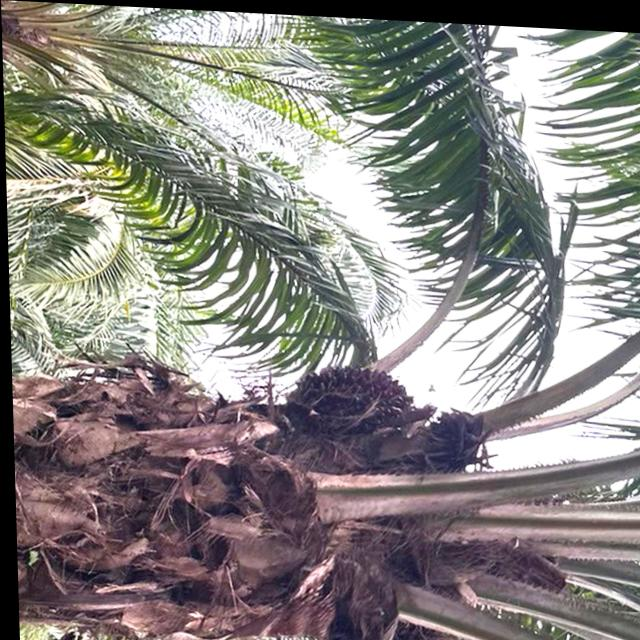ripe: (290, 352, 425, 431)
